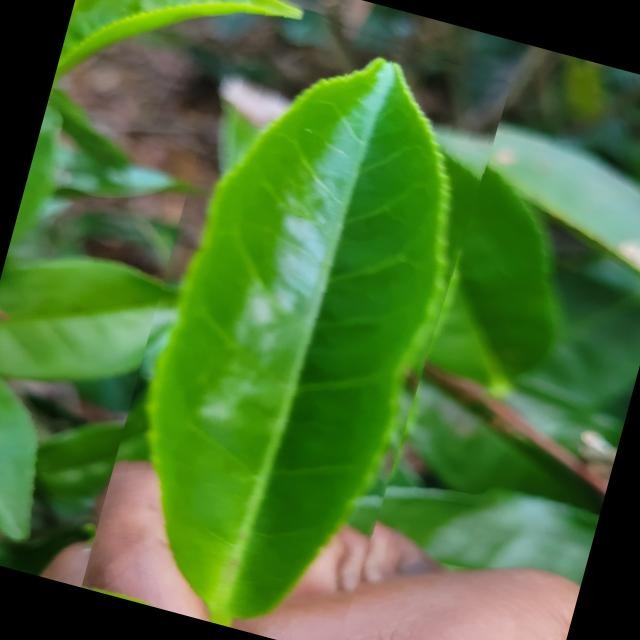Catagory A(1-2 days): (81, 0, 515, 640)
